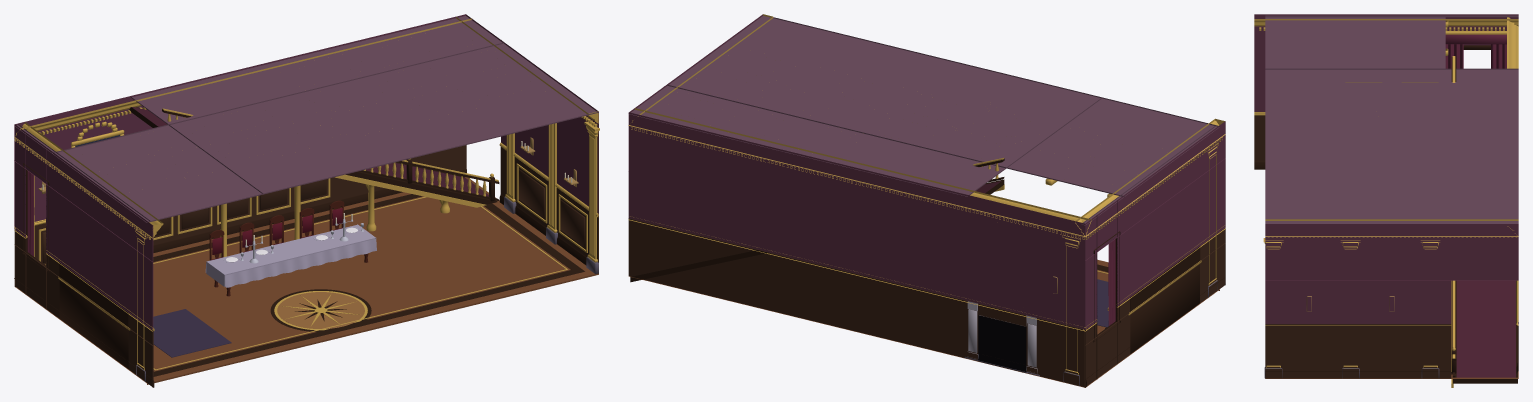
Rendered from grandhall.glb.
3 views of the same model, side by side, from view 1: azimuth 30°, elevation 25°; view 2: azimuth 150°, elevation 25°; view 3: azimuth 270°, elevation 25° (orthographic). The views are drawn at different scales.
Parts seen in each view (by area): view 1: Hall_Main, Hall_Left, Hall_Back; view 2: Hall_Back, Hall_Main, Hall_Left; view 3: Hall_Main, Hall_Left, Hall_Back.
Part boxes in pixels (x1=…): Hall_Main: x1=15, y1=14, x2=599, y2=384; Hall_Left: x1=14, y1=122, x2=163, y2=387; Hall_Back: x1=14, y1=14, x2=471, y2=286; Hall_Back: x1=628, y1=108, x2=1091, y2=387; Hall_Main: x1=628, y1=14, x2=1219, y2=387; Hall_Left: x1=1075, y1=118, x2=1225, y2=387; Hall_Main: x1=1263, y1=15, x2=1518, y2=387; Hall_Left: x1=1254, y1=14, x2=1518, y2=169; Hall_Back: x1=1507, y1=17, x2=1518, y2=373.
Bounding box in the file's own units: 18.07 × 7.05 × 9.6.
